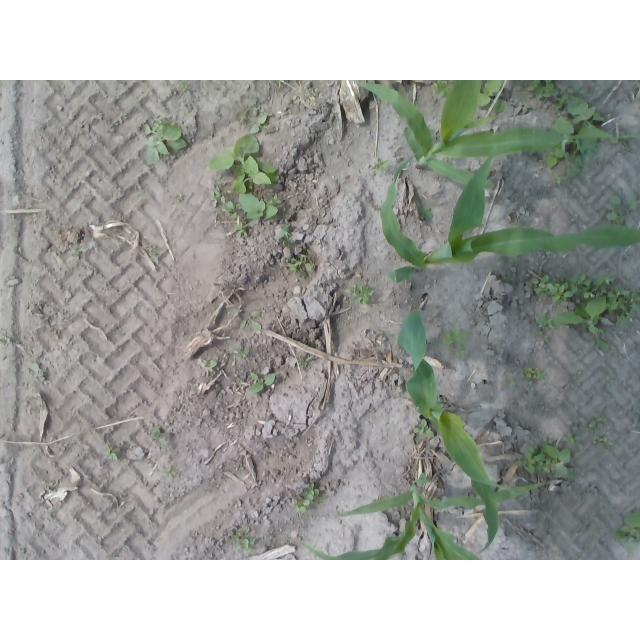Maize: (379, 149, 640, 282), (357, 80, 640, 189), (395, 309, 502, 554), (299, 472, 562, 560)
Weeds: (531, 273, 640, 351), (207, 133, 280, 195), (543, 117, 586, 186), (137, 117, 187, 166), (514, 445, 576, 480), (563, 413, 614, 452), (524, 81, 570, 112), (239, 193, 282, 224), (567, 95, 605, 129), (612, 508, 640, 553), (293, 482, 326, 515), (604, 196, 640, 225), (234, 107, 271, 135), (478, 81, 507, 116), (442, 325, 470, 357), (345, 282, 375, 306), (287, 253, 313, 278), (249, 371, 276, 393), (233, 527, 255, 554), (277, 223, 296, 248), (239, 311, 262, 331), (411, 419, 433, 438), (434, 80, 454, 100), (522, 366, 547, 382), (223, 201, 242, 220), (209, 189, 227, 207), (371, 158, 389, 175), (618, 138, 634, 154), (235, 222, 250, 239), (179, 80, 192, 96), (105, 449, 120, 461), (420, 207, 433, 220), (203, 358, 217, 370), (233, 350, 250, 359), (506, 378, 518, 390), (149, 426, 160, 439), (70, 248, 90, 255), (299, 357, 312, 367), (268, 80, 283, 86), (163, 470, 173, 479), (0, 336, 10, 344), (161, 442, 168, 450)
